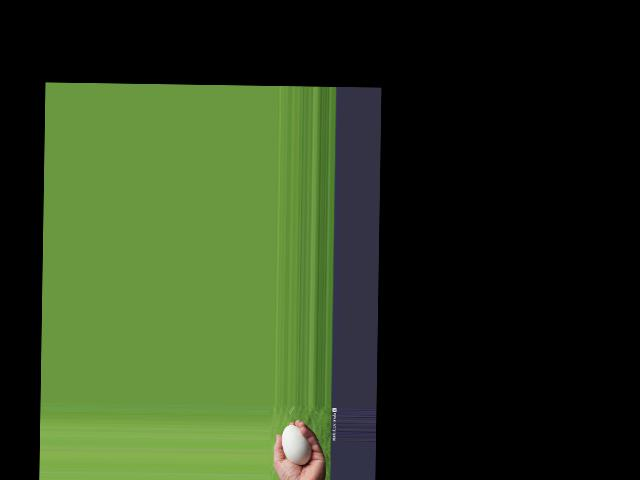egg: (281, 425, 312, 466)
